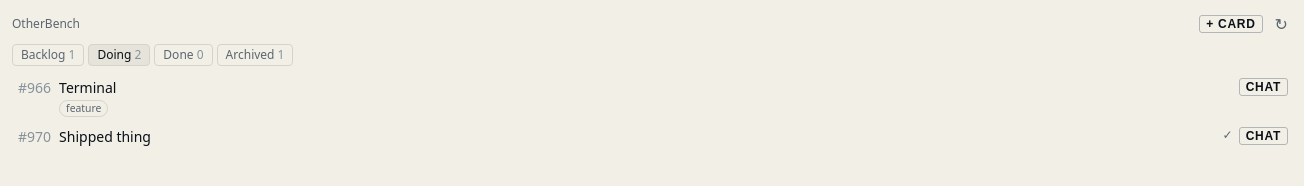
Test case: DeckTab › opening a card shows its description; a remote image is not loaded
What coordinates should you click on to do the following:
click the button with test id "card-row-966"
I would click on:
 (88, 88)
Its box is [12,74,1239,121].
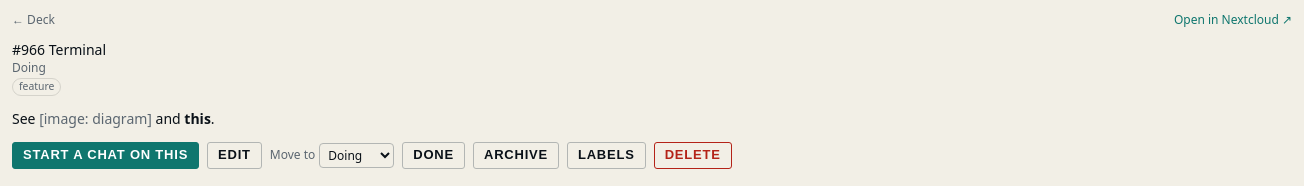
Expected: the heading "#966 Terminal" is shown, [12,40,106,59]
Now the text "[image: diagram]" is shown, box [39,109,152,128]
What coordinates should you click on to do the following:
click the link "Open in Nextcloud ↗"
I would click on:
 (1233, 20)
Its box is [1174,12,1292,28].
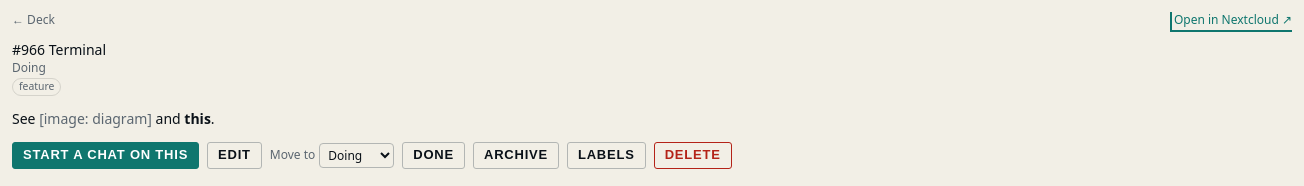
What coordinates should you click on to do the following:
click the button with aria-label "Back to the board"
I would click on:
 (33, 20)
Its box is [12,12,55,28].
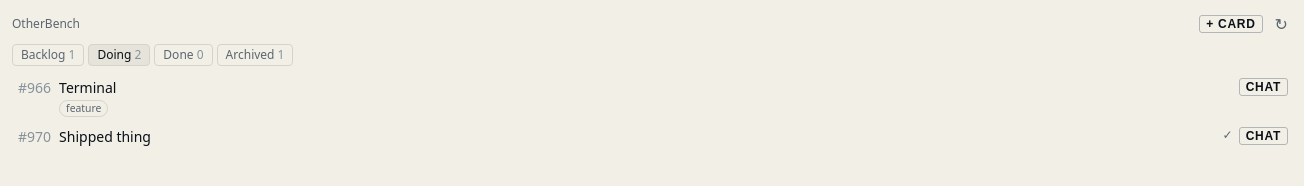
Now the button with test id "card-row-966" is shown, box [12,74,1239,121]
